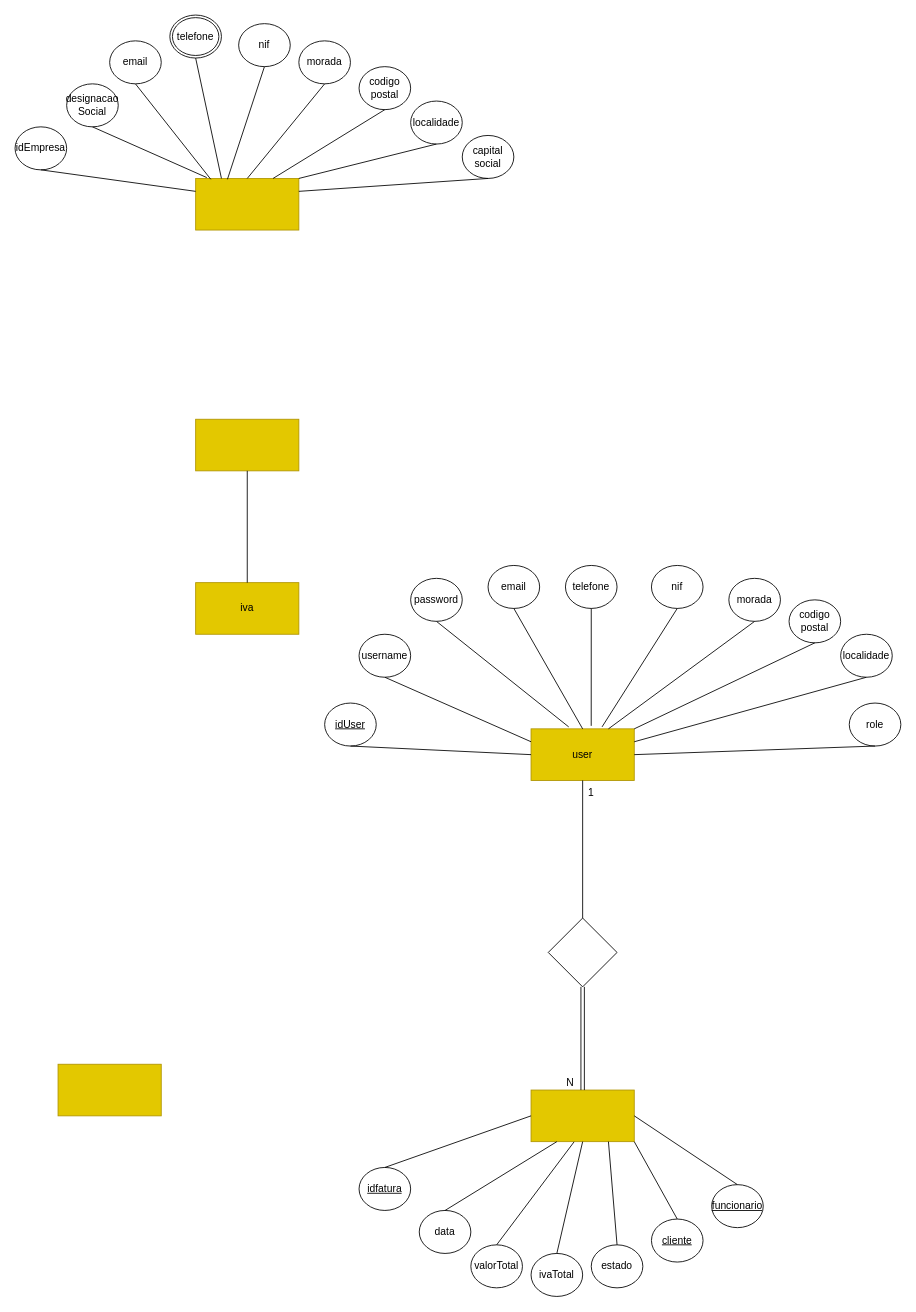
This 916x1312 diagram has some shape labels left out. Each missing label, with the centre of its shape:
emitem: the point at 582,952
empresa: the point at 247,204
fatura: the point at 582,1115
linhafatura: the point at 109,1089
produto: the point at 247,444
